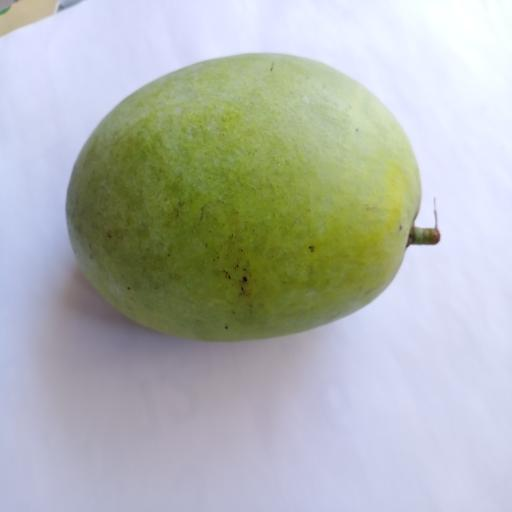mango-unripe: (53, 37, 455, 356)
